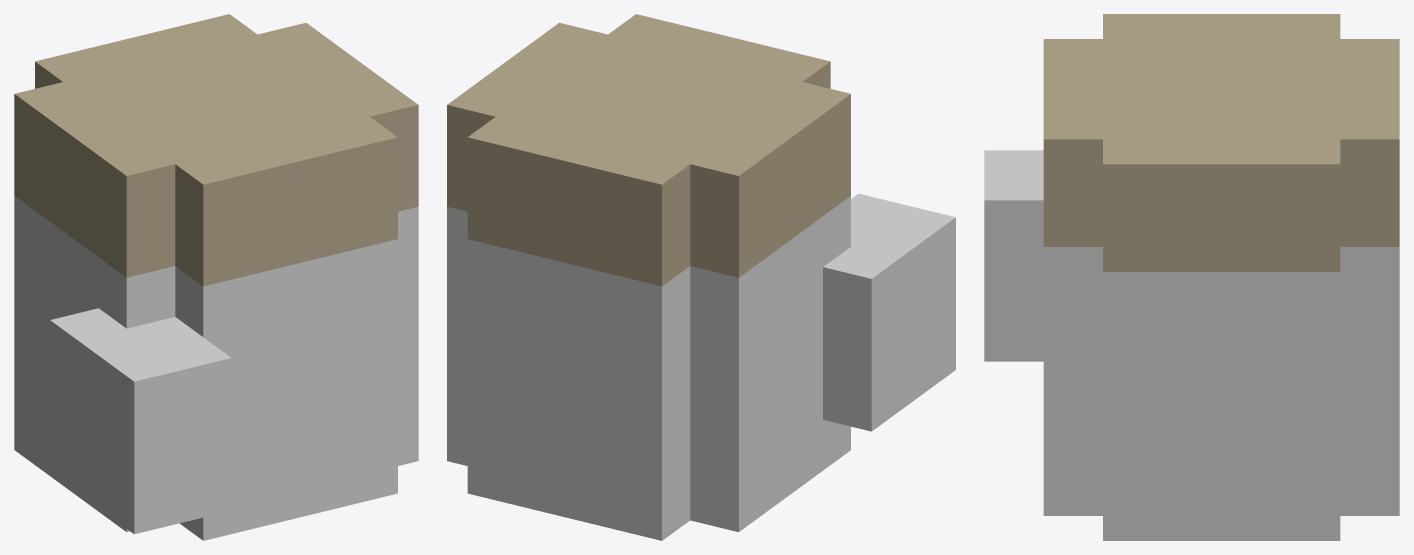
The model's file is hand.glb.
3 views of the same model, side by side, from view 1: azimuth 30°, elevation 25°; view 2: azimuth 150°, elevation 25°; view 3: azimuth 270°, elevation 25° (orthographic). The views are drawn at different scales.
Parts seen in each view (by area): view 1: VoxelVisual; view 2: VoxelVisual; view 3: VoxelVisual.
Boxes of the visible parts, <box> form: VoxelVisual: <box>14,14,418,540</box>; VoxelVisual: <box>447,14,955,540</box>; VoxelVisual: <box>984,14,1399,540</box>.
Size of what is drawn, in the model's own units: 0.4375 by 0.4375 by 0.4375.
